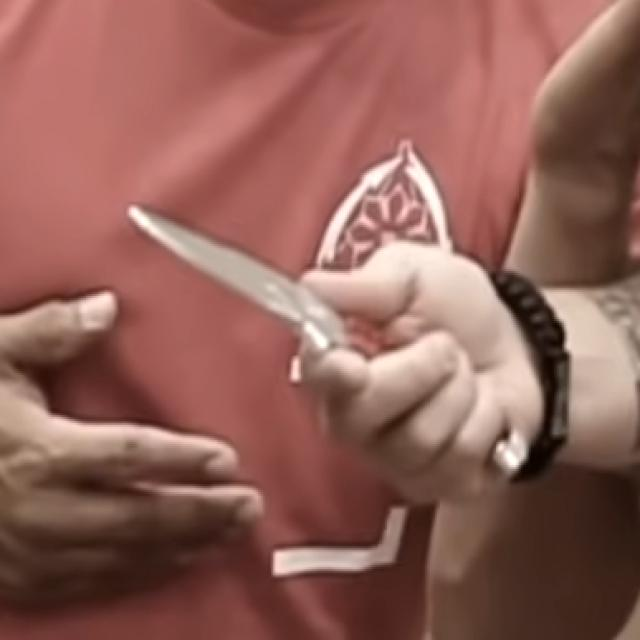knife: (124, 193, 406, 440)
